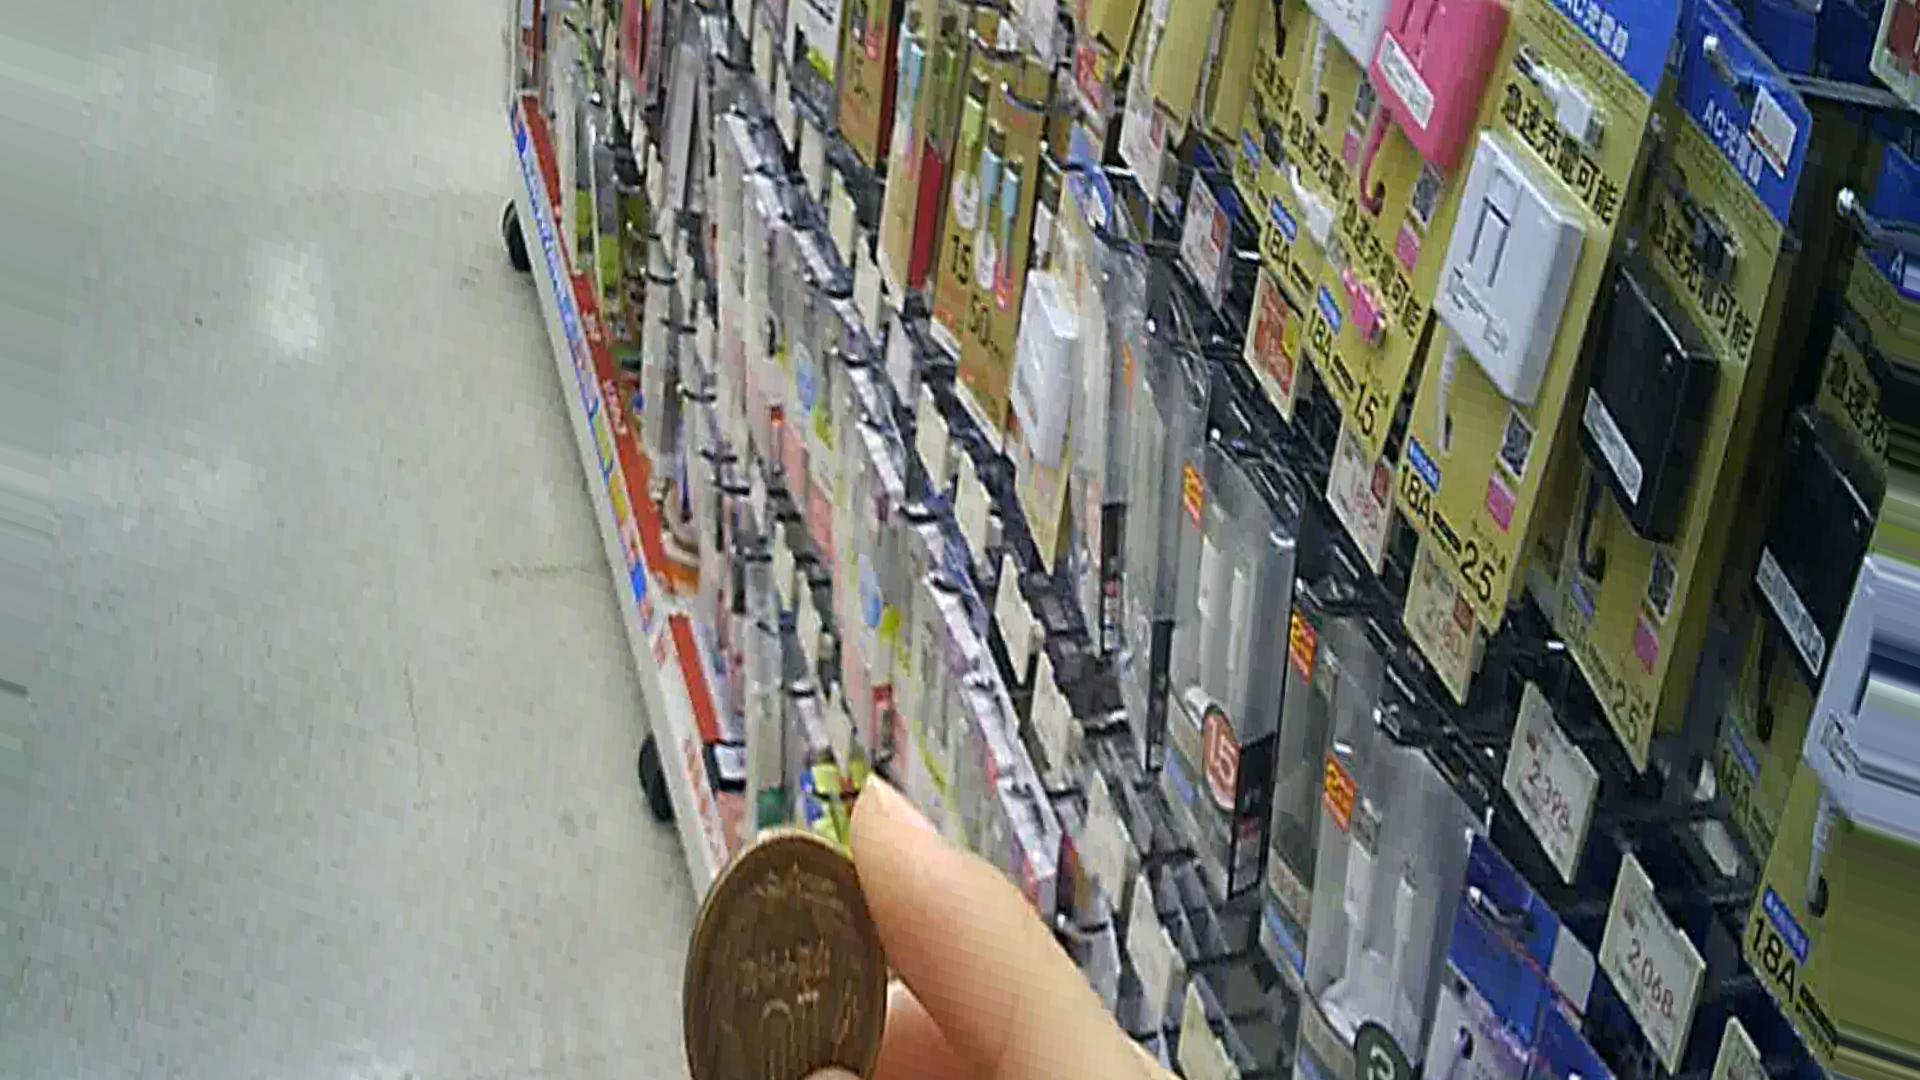10 Yen: (665, 828, 880, 1079)
